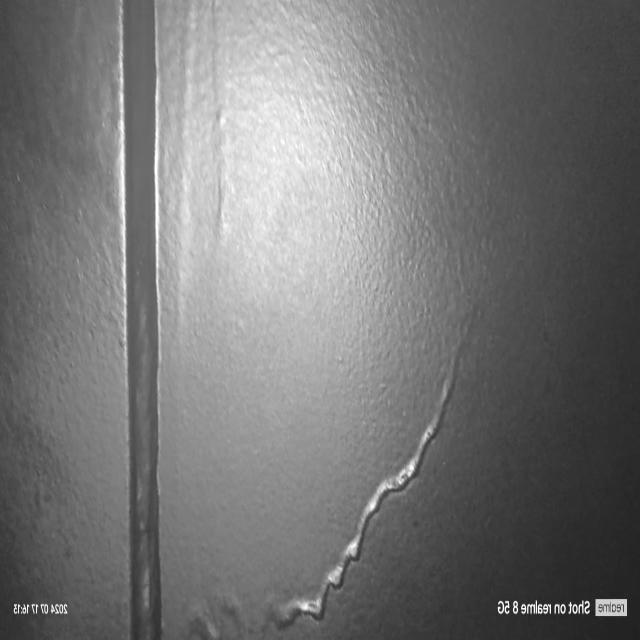paint drips: (178, 278, 487, 640), (166, 0, 246, 418)
